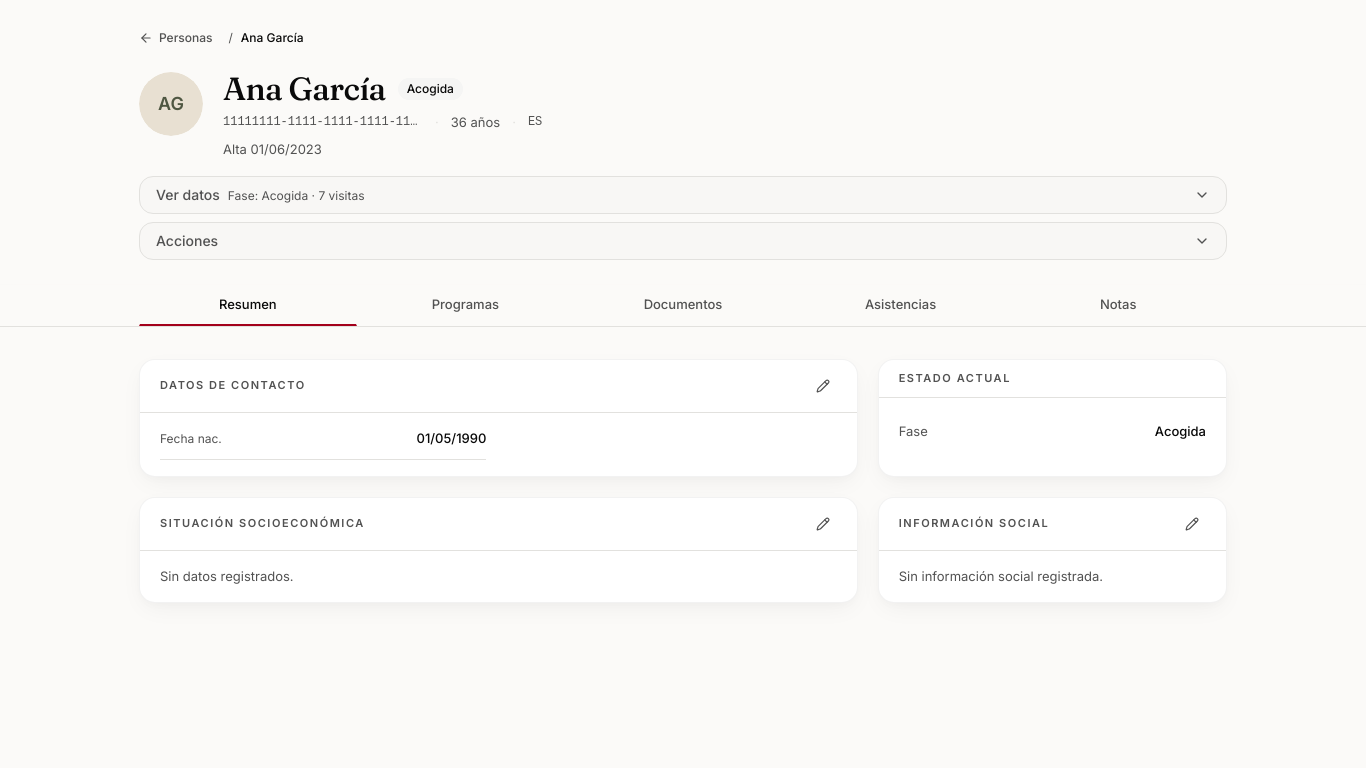
Editar ficha — lápices del Resumen › cada bloque del Resumen abre el editor
The width and height of the screenshot is (1366, 768).
Click the button named "Editar datos de contacto" at (823, 386), box [809, 372, 837, 400]
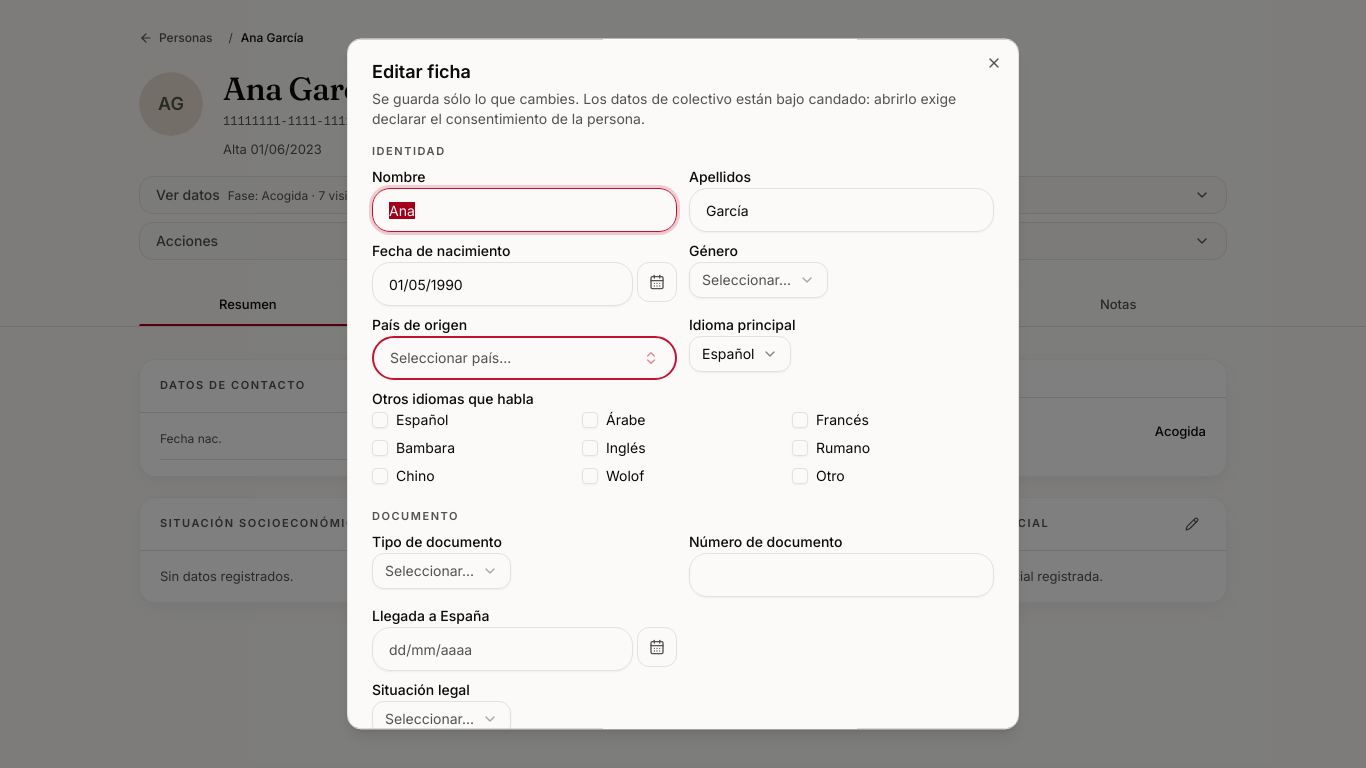
Expected: the dialog is shown, [347, 38, 1019, 730]
